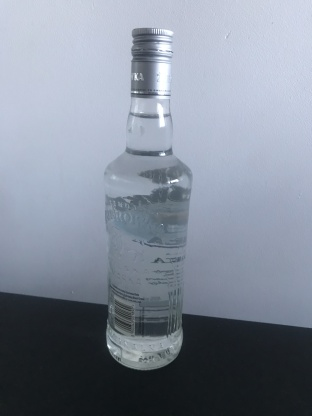nakretka: (129, 24, 174, 100)
